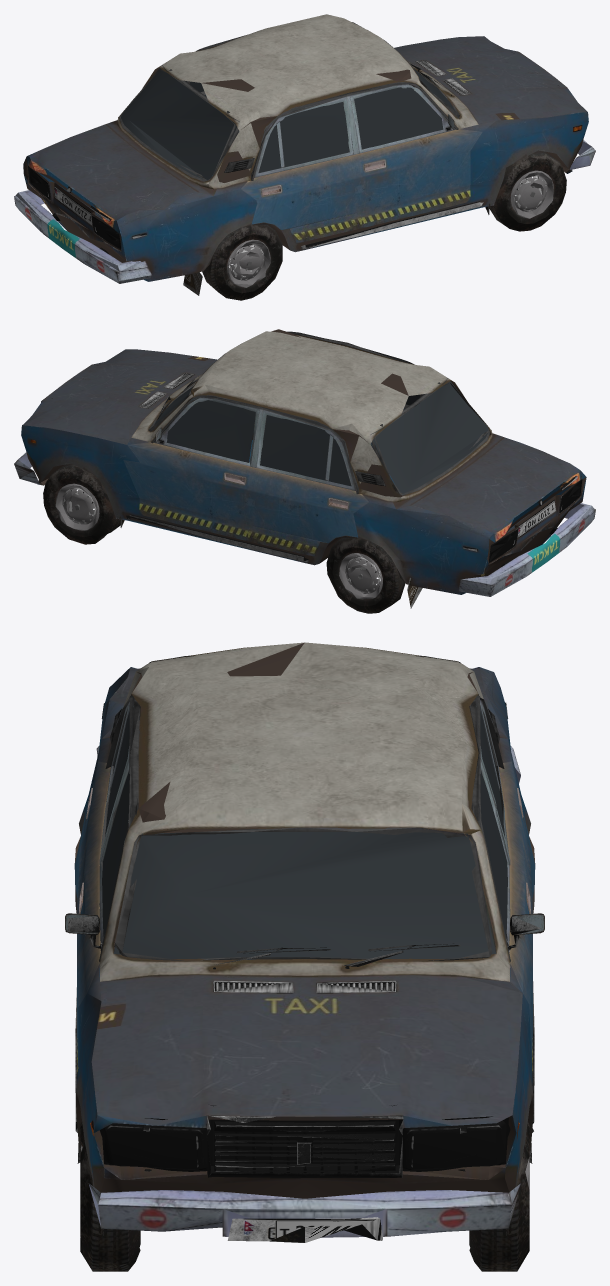
The model's file is vaz2107_taxi.obj.
3 views of the same model, one above another, from view 1: azimuth 30°, elevation 25°; view 2: azimuth 150°, elevation 25°; view 3: azimuth 270°, elevation 25° (orthographic). The views are drawn at different scales.
Visible parts, largest first — view 1: vaz2107_taxi_CarBody, vaz2107_taxi_WindowsGlass, vaz2107_taxi_Bottom, vaz2107_taxi_Details; view 2: vaz2107_taxi_CarBody, vaz2107_taxi_WindowsGlass, vaz2107_taxi_Bottom, vaz2107_taxi_Details; view 3: vaz2107_taxi_CarBody, vaz2107_taxi_WindowsGlass, vaz2107_taxi_Details, vaz2107_taxi_Bottom.
Boxes of the visible parts, <box> form: vaz2107_taxi_CarBody: <box>14,14,595,283</box>; vaz2107_taxi_WindowsGlass: <box>121,65,459,180</box>; vaz2107_taxi_Bottom: <box>96,150,566,300</box>; vaz2107_taxi_Details: <box>27,52,582,295</box>; vaz2107_taxi_CarBody: <box>14,329,595,596</box>; vaz2107_taxi_WindowsGlass: <box>151,378,488,493</box>; vaz2107_taxi_Bottom: <box>43,463,405,613</box>; vaz2107_taxi_Details: <box>30,365,582,608</box>; vaz2107_taxi_CarBody: <box>74,642,535,1237</box>; vaz2107_taxi_WindowsGlass: <box>102,655,507,959</box>; vaz2107_taxi_Details: <box>65,702,544,1242</box>; vaz2107_taxi_Bottom: <box>80,1121,529,1271</box>.
Size of the model in its own units: 4.14 by 1.47 by 1.76.
4 materials, 4 textured.
